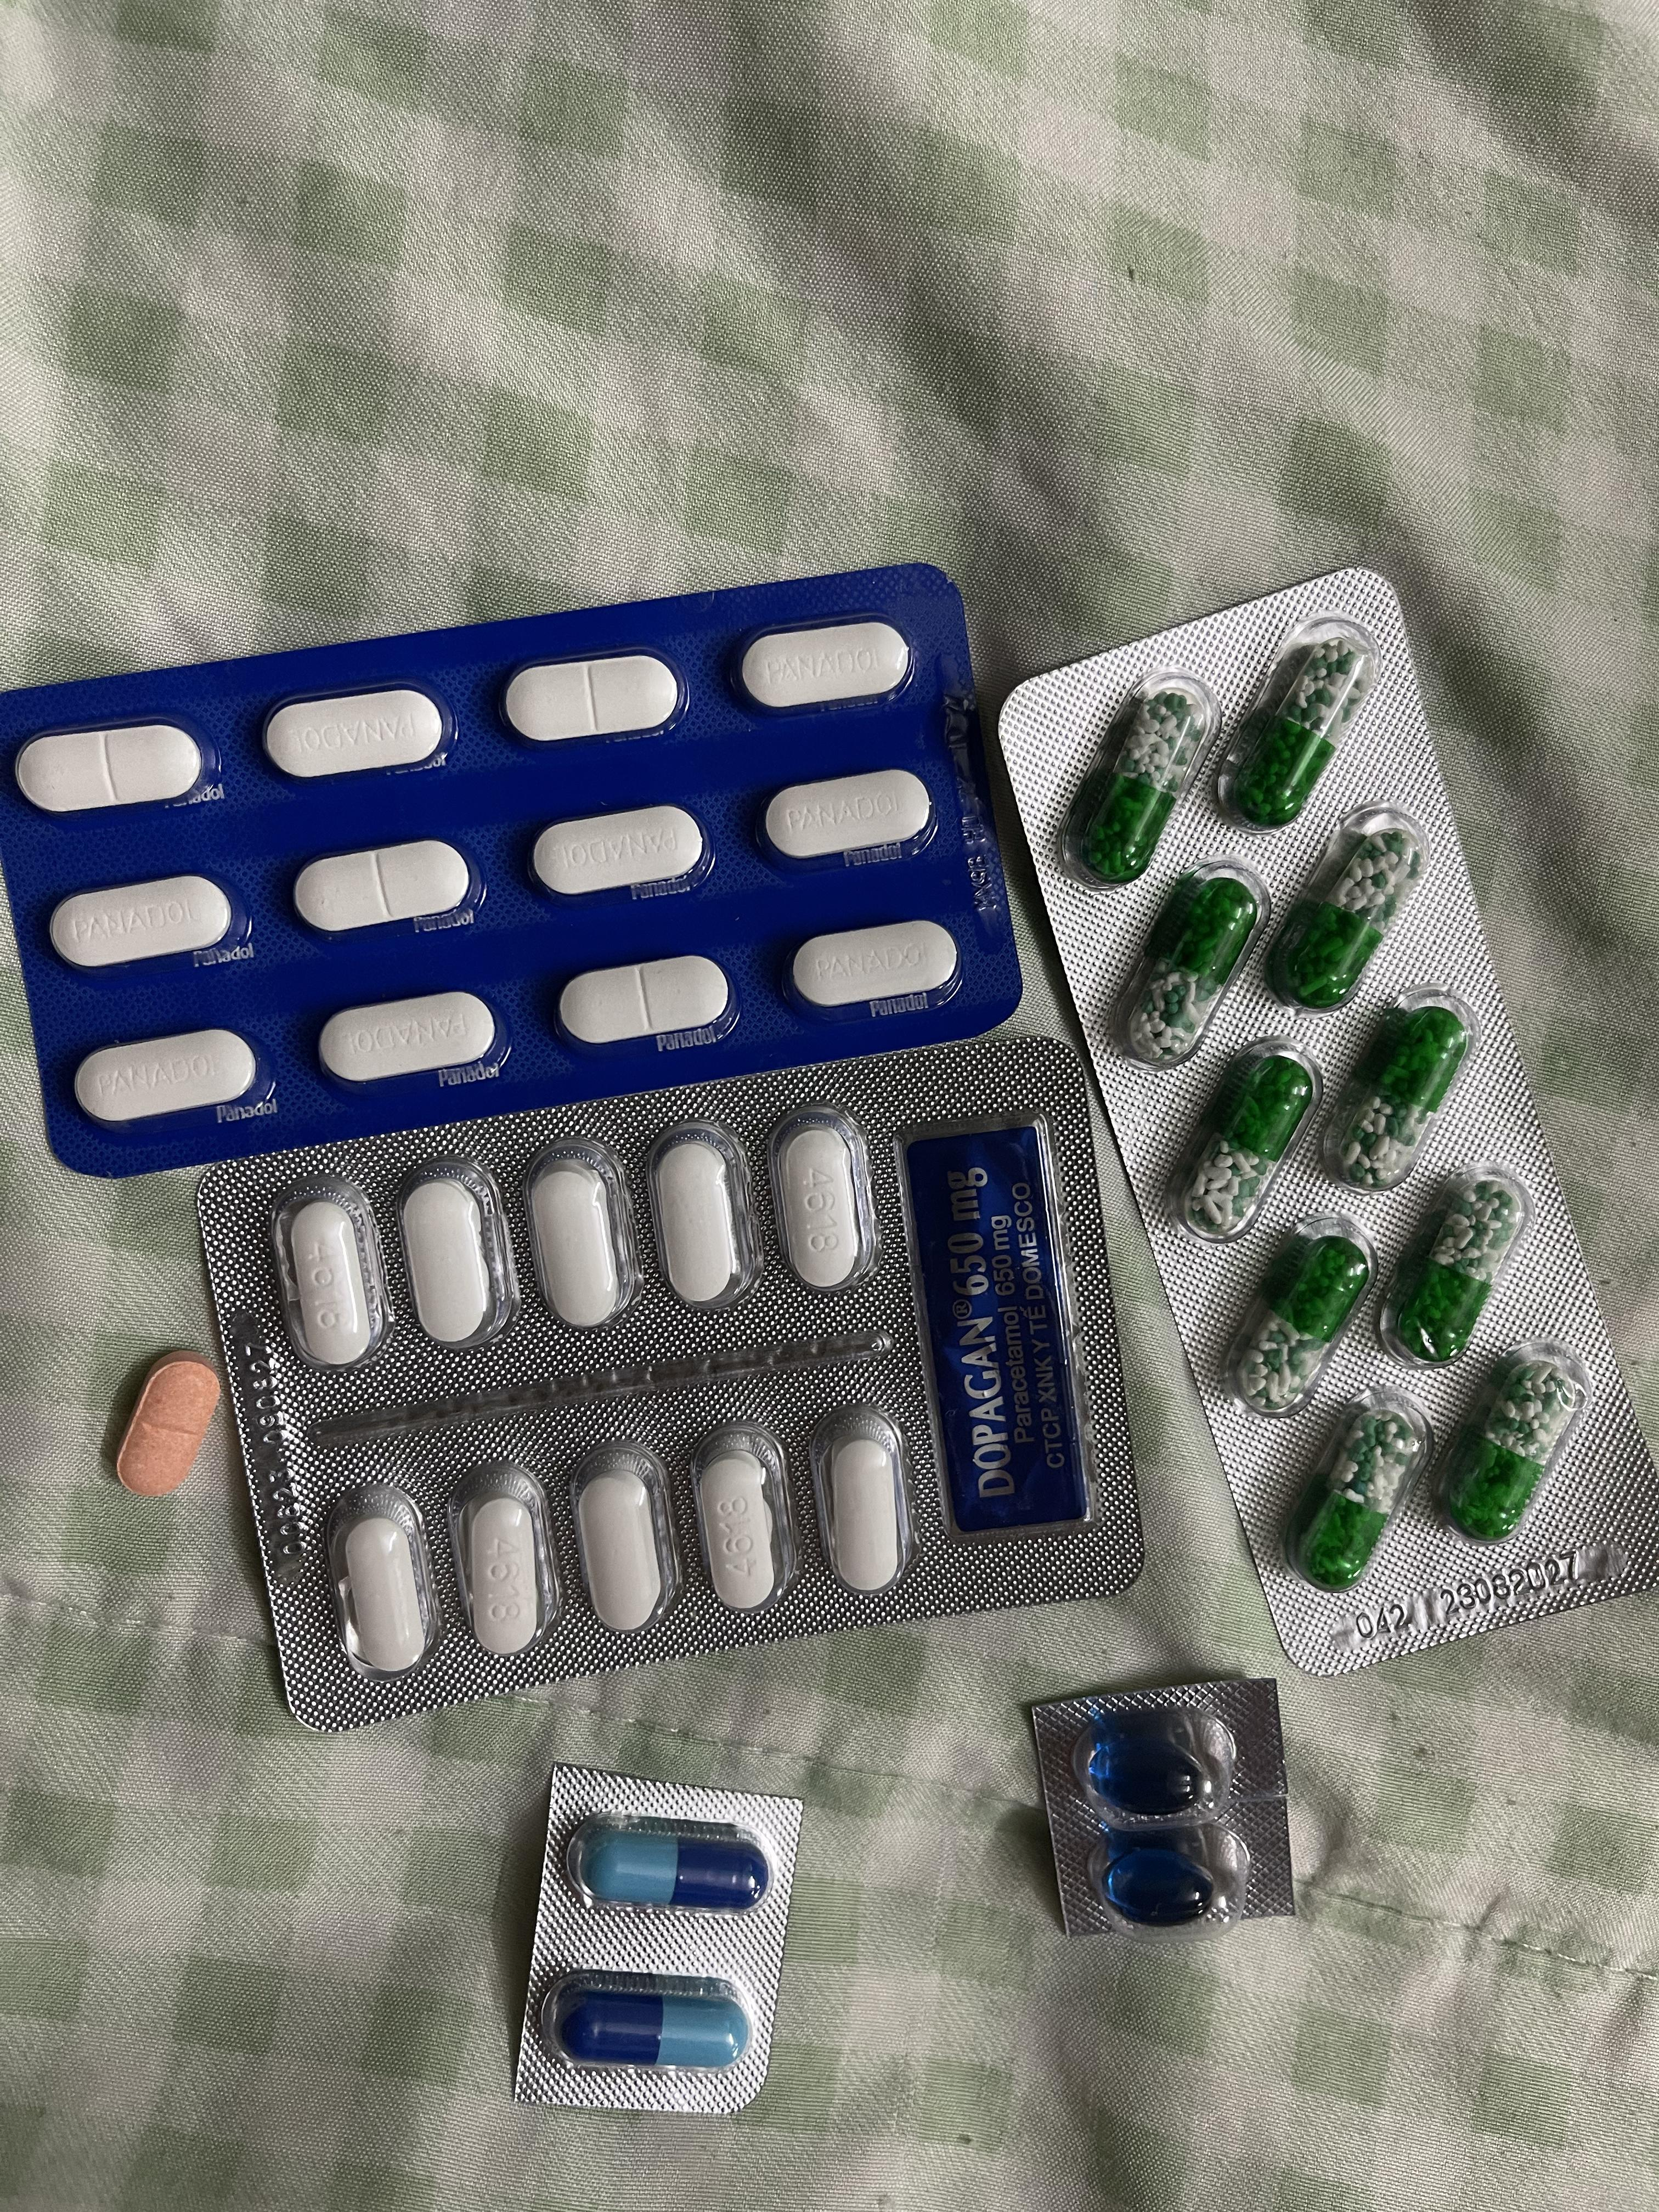Lincomyxin_500mg: (1091, 1731, 1213, 1818), (1101, 1846, 1218, 1926)
Loratadine_10mg: (115, 1350, 225, 1501)
Paracetamol_350mg: (47, 874, 239, 972), (73, 1028, 261, 1127), (317, 989, 500, 1089), (17, 725, 209, 819), (735, 618, 920, 716), (786, 920, 967, 1019), (760, 770, 938, 871), (504, 651, 687, 747), (532, 805, 711, 902), (263, 688, 448, 782), (295, 840, 474, 935), (561, 956, 735, 1049)
Paracetamol_500mg: (394, 1157, 516, 1346), (272, 1174, 390, 1367), (324, 1480, 437, 1683), (521, 1137, 640, 1329), (446, 1461, 559, 1662), (570, 1439, 681, 1639), (695, 1420, 802, 1616), (767, 1106, 877, 1296), (659, 1136, 742, 1303), (826, 1430, 901, 1594)
Paracetamol_650mg: (1260, 805, 1425, 1019), (1213, 617, 1375, 829), (1323, 995, 1488, 1198), (1213, 1211, 1375, 1418), (1105, 857, 1258, 1071), (1061, 672, 1211, 888), (1162, 1035, 1319, 1238), (1387, 1176, 1527, 1360), (1441, 1362, 1582, 1543), (1293, 1406, 1422, 1588)
pill: (544, 1972, 763, 2073), (575, 1834, 769, 1914)
